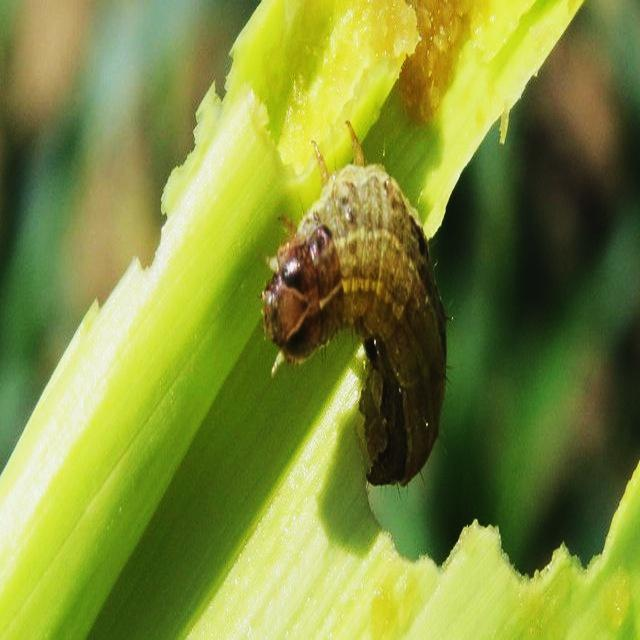gusano_cogollero: (262, 163, 448, 485)
